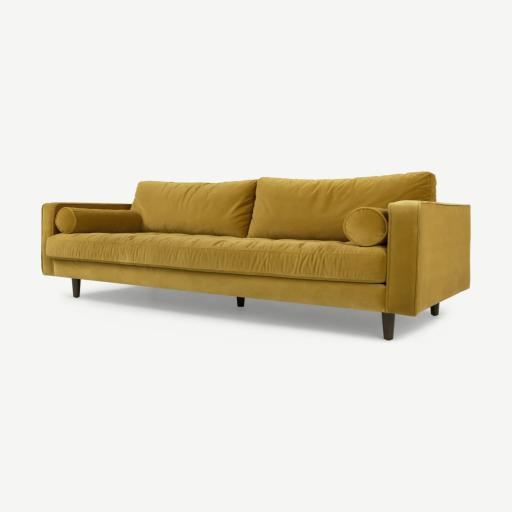back_cushion: (131, 173, 435, 242)
base: (54, 260, 385, 311)
left_arm: (385, 201, 469, 315)
legs: (380, 312, 395, 340), (73, 279, 80, 298), (237, 297, 245, 306), (432, 305, 438, 312)
right_arm: (42, 203, 130, 275)
seat_cushion: (46, 232, 387, 283)
two-seater: (0, 0, 511, 512)
